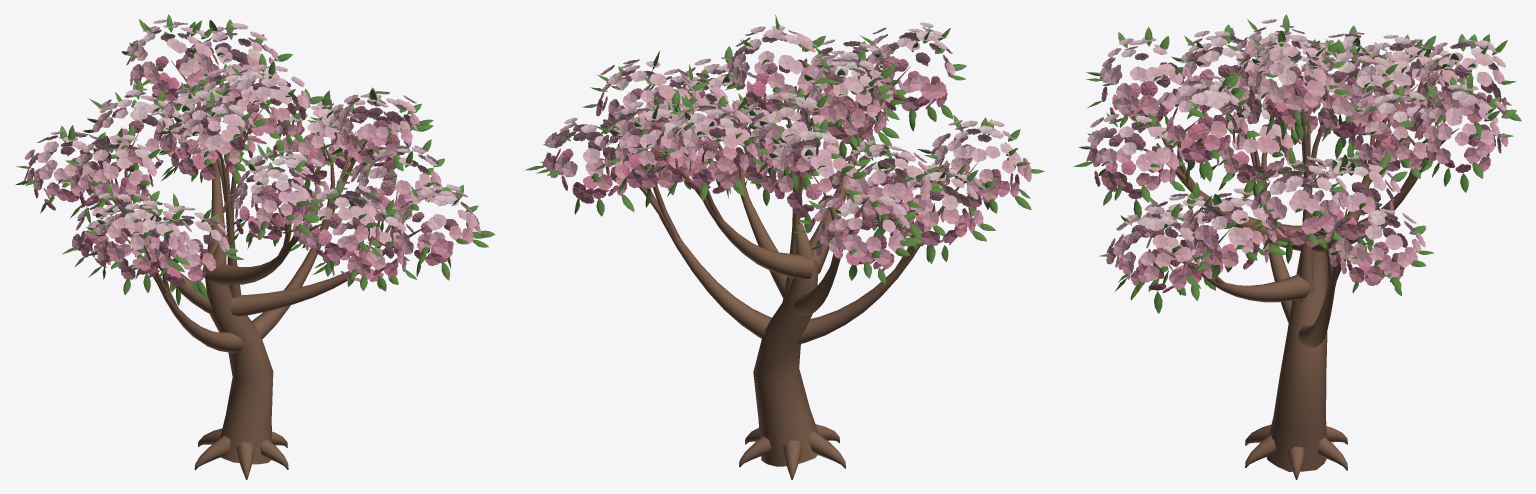
The model's file is cherry.glb.
The picture shows the model from 3 angles, left to right: view 1: azimuth 30°, elevation 25°; view 2: azimuth 150°, elevation 25°; view 3: azimuth 270°, elevation 25°; orthographic projection. The views are drawn at different scales.
Visible parts, largest first — view 1: blossom, bark, leaf; view 2: blossom, bark, leaf; view 3: blossom, bark, leaf.
Part boxes in pixels (bbox=[...]): blossom: bbox=[24, 19, 480, 286]; bark: bbox=[108, 60, 427, 479]; leaf: bbox=[15, 14, 495, 305]; blossom: bbox=[541, 22, 1031, 271]; bark: bbox=[600, 66, 978, 479]; leaf: bbox=[525, 15, 1044, 284]; blossom: bbox=[1086, 19, 1508, 292]; bark: bbox=[1136, 69, 1463, 479]; leaf: bbox=[1073, 14, 1521, 313].
Size of the model in its own units: 4.59 by 4.48 by 4.12.
